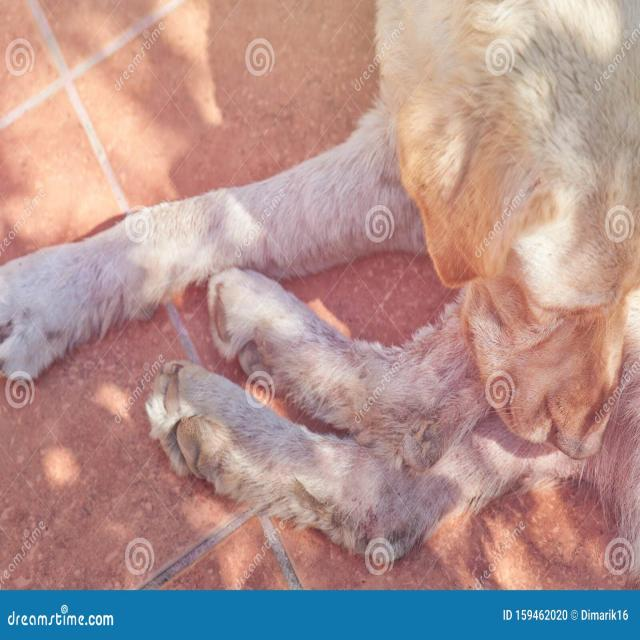fungal infection: (236, 185, 363, 264), (412, 320, 476, 430), (41, 244, 118, 334), (310, 442, 401, 517), (237, 400, 308, 480), (364, 392, 443, 462), (298, 312, 367, 374), (403, 470, 462, 525), (307, 374, 358, 427), (359, 507, 411, 558), (249, 307, 289, 372), (192, 198, 233, 242), (380, 143, 406, 196)
